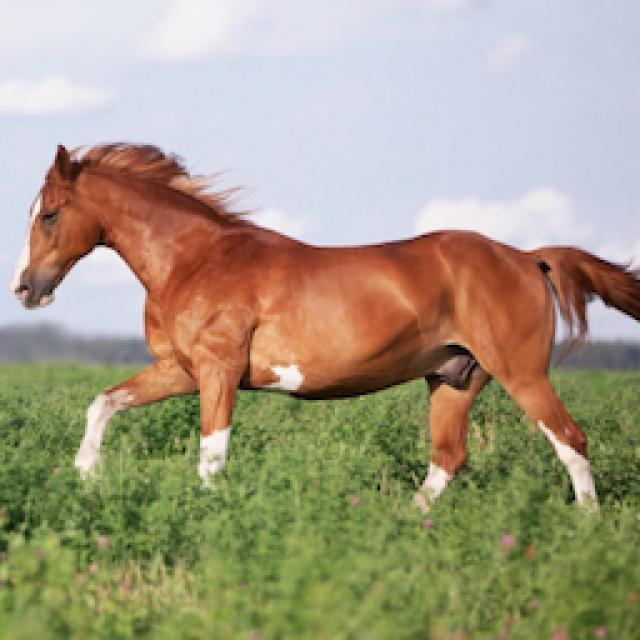Horse: (2, 132, 638, 520)
